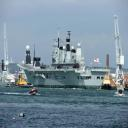Portanaves: (17, 28, 112, 92)
